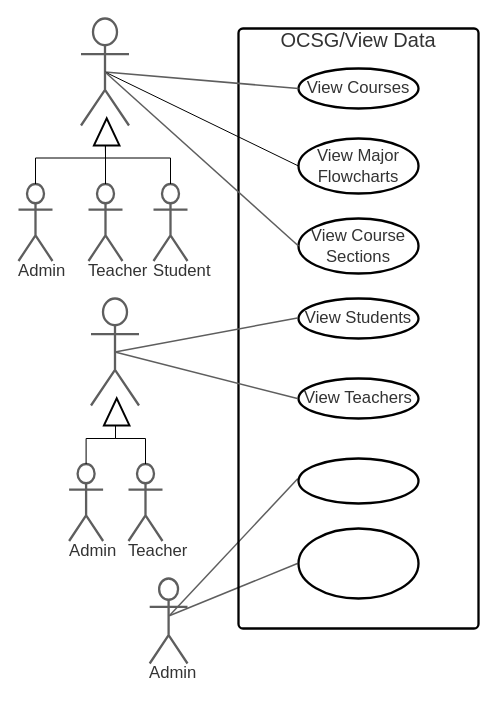
Image size: 497x701. Some labels were removed from this diagram. The shapes that lost their labels are listed below. From the top down, each one's centre as x and y in pixels, then its label:
At [358,480]: "View Timeslots".
At [358,563]: "View Buildings & Classrooms".
